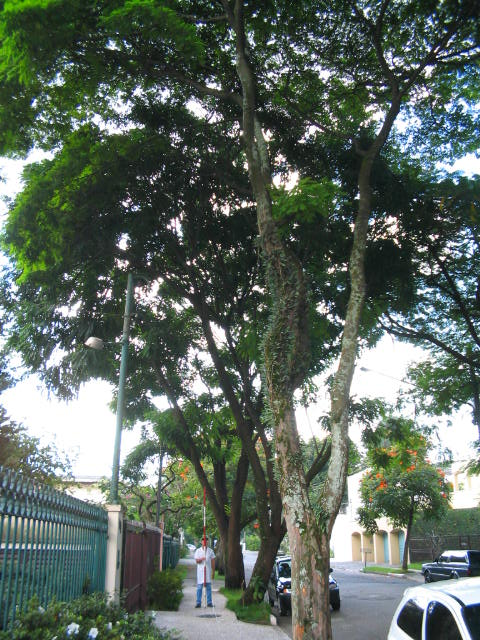stem: (278, 534, 351, 640), (241, 536, 283, 605), (217, 545, 249, 591)
stick: (199, 485, 212, 607)
